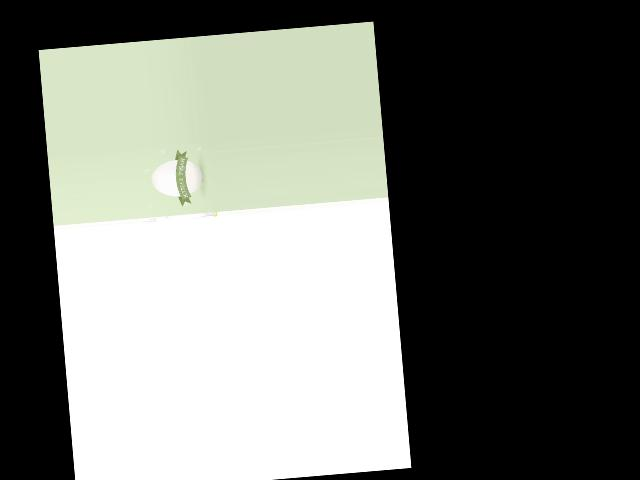egg: (150, 158, 203, 199)
